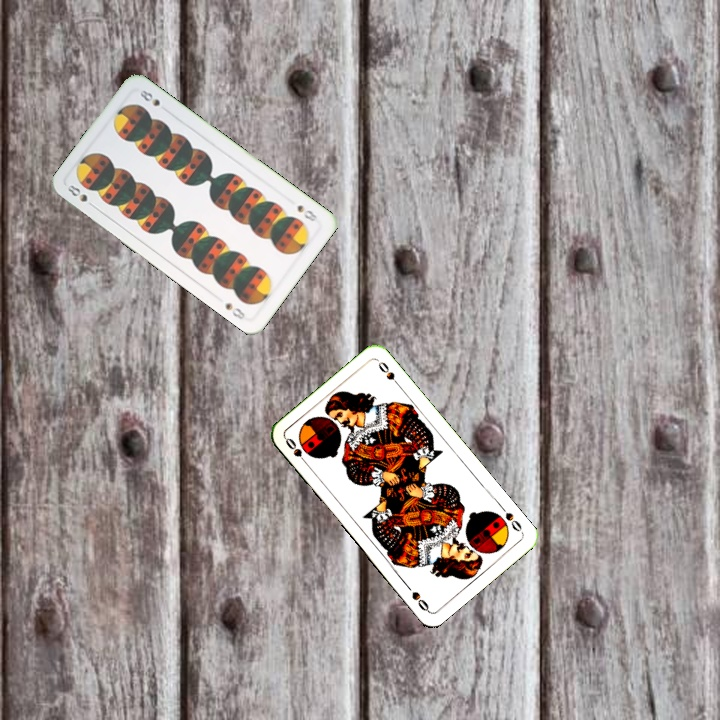S8: (64, 181, 90, 205), (293, 201, 320, 224)
SO: (281, 434, 311, 468), (496, 501, 524, 534)
